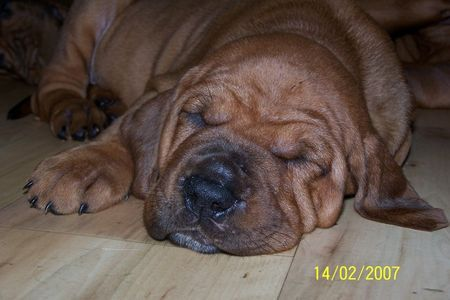tosa_inu: (5, 0, 450, 257)
